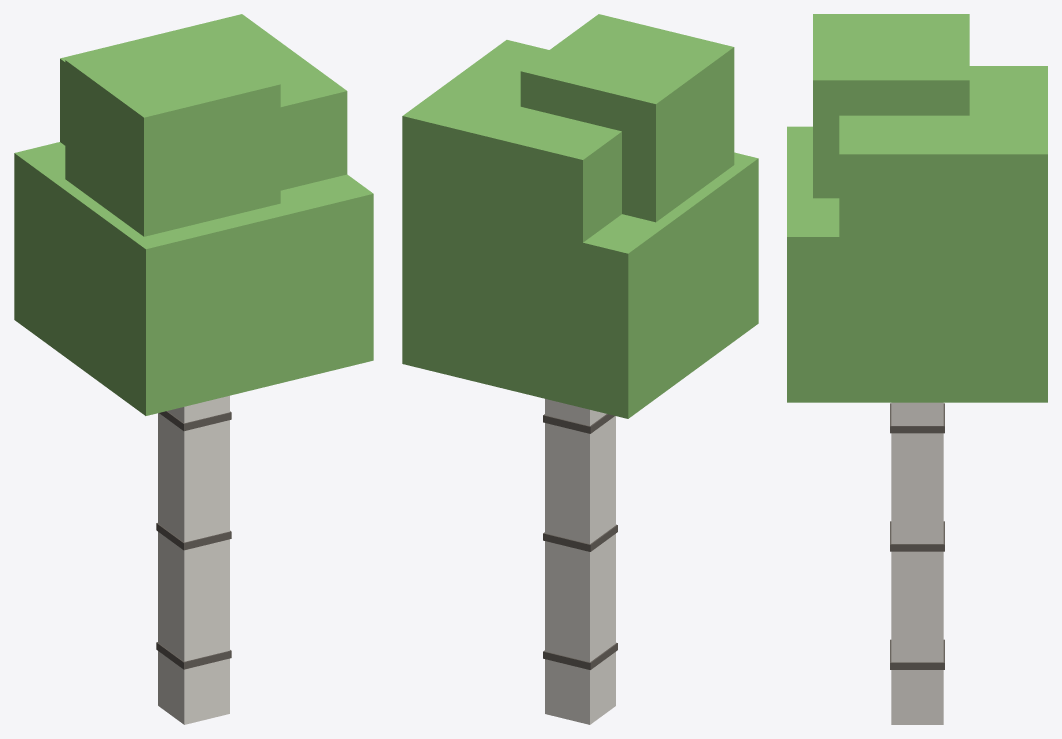
Rendered from propvar_birch_s.glb.
3 renders of one model, left to right at view 1: azimuth 30°, elevation 25°; view 2: azimuth 150°, elevation 25°; view 3: azimuth 270°, elevation 25°, orthographic.
Parts seen in each view (by area): view 1: PropVar_Birch_S; view 2: PropVar_Birch_S; view 3: PropVar_Birch_S.
Boxes of the visible parts, x1,y1,x2,y2 form: PropVar_Birch_S: (14, 14, 373, 724); PropVar_Birch_S: (402, 14, 758, 724); PropVar_Birch_S: (787, 14, 1047, 724).
Size of the model in its own units: 2 by 5.5 by 2.
